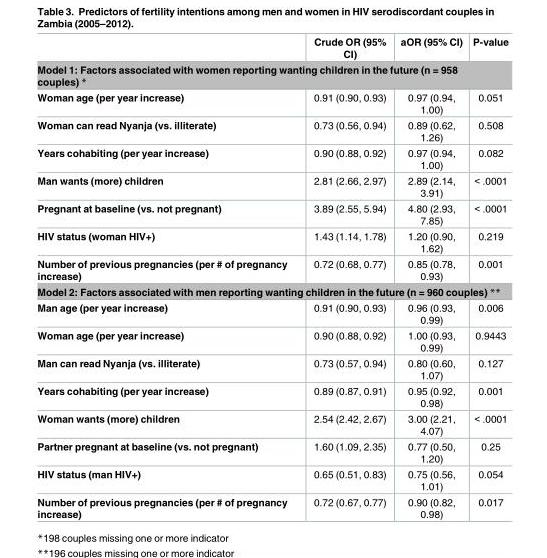table: (36, 37, 507, 519)
table column: (36, 37, 299, 519), (299, 37, 392, 519), (392, 37, 466, 519), (466, 37, 507, 519)
table column header: (36, 37, 507, 61)
table projected row header: (36, 61, 507, 89), (36, 283, 507, 300)
table row: (36, 61, 507, 89), (36, 89, 507, 117), (36, 117, 507, 145), (36, 172, 507, 200), (36, 200, 507, 228), (36, 228, 507, 256), (36, 327, 507, 355), (36, 355, 507, 383), (36, 410, 507, 438), (36, 438, 507, 466), (36, 466, 507, 494), (36, 145, 507, 172), (36, 256, 507, 283), (36, 300, 507, 327), (36, 383, 507, 410), (36, 494, 507, 519), (36, 37, 507, 61), (36, 283, 507, 300)
